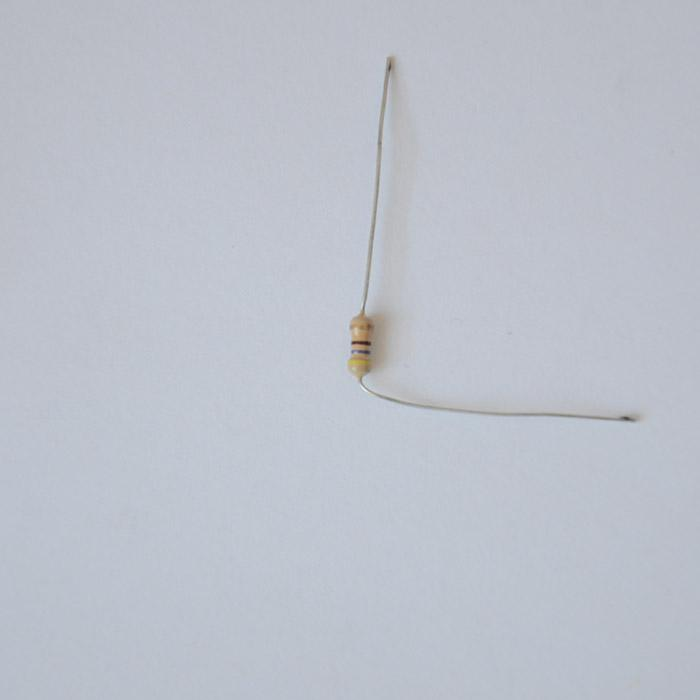resistor: (325, 320, 352, 383)
